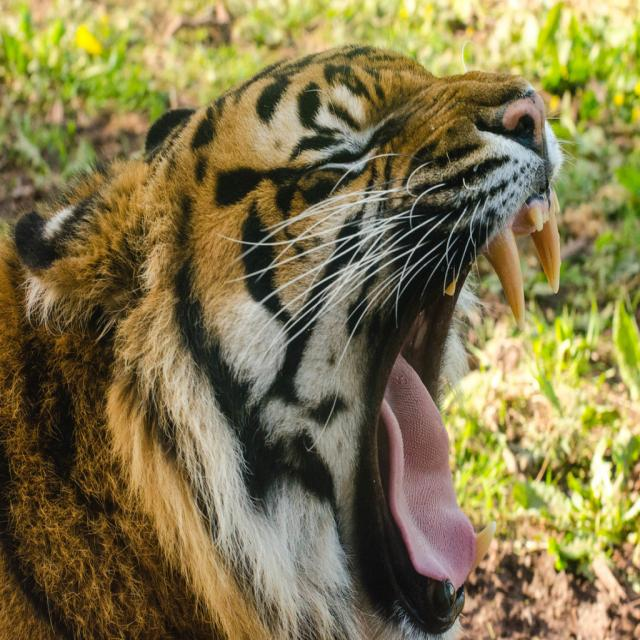Tiger: (0, 4, 581, 639)
